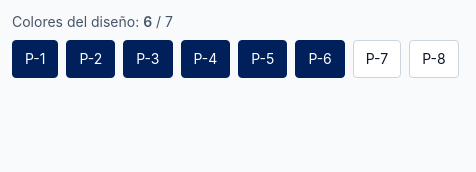
Test case: DesignColorPicker (1–7 cardinality) › blocks selecting an 8th color after the user selects 7
This screenshot has width=476, height=172.
Note: Selecting the 7th color saturates the 1–7 budget.
Click the button "P-7": (377, 59) [353, 40, 401, 78]
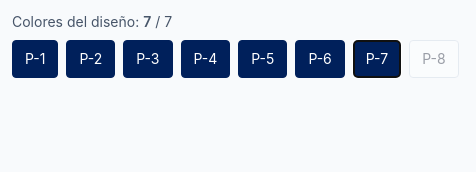
Result: the button "P-8" is disabled at [409, 40, 459, 78]
